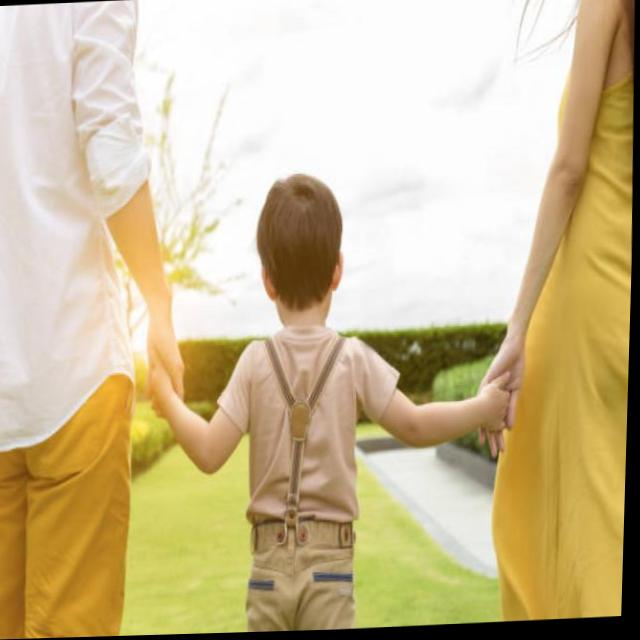no helmet: (250, 173, 354, 331)
